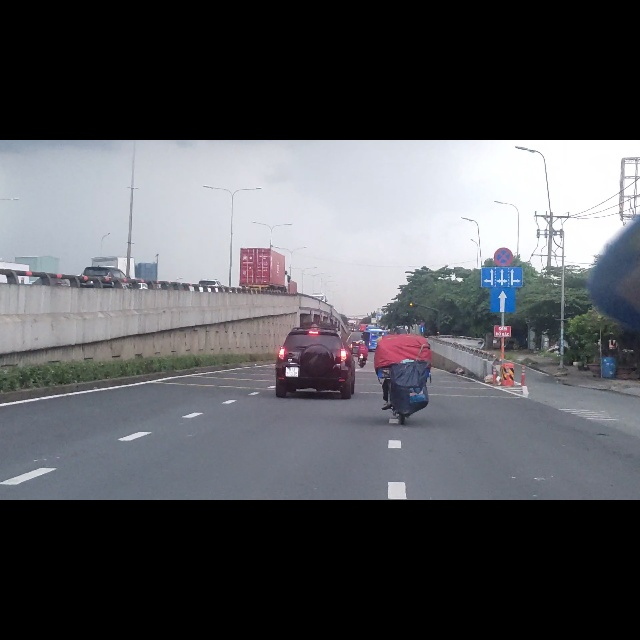bien_chi_dan: (491, 262, 516, 306), (493, 191, 515, 224)
